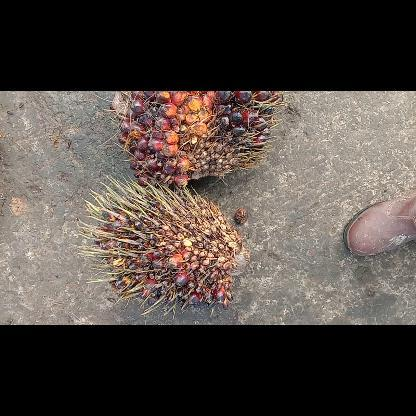Kurang masak: (108, 91, 284, 187)
TBS abnormal: (77, 175, 249, 315)
